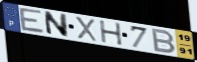7: (128, 25, 151, 49)
B: (151, 27, 178, 54)
E: (18, 7, 46, 35)
H: (98, 20, 124, 47)
N: (43, 10, 70, 38)
X: (74, 16, 99, 43)
